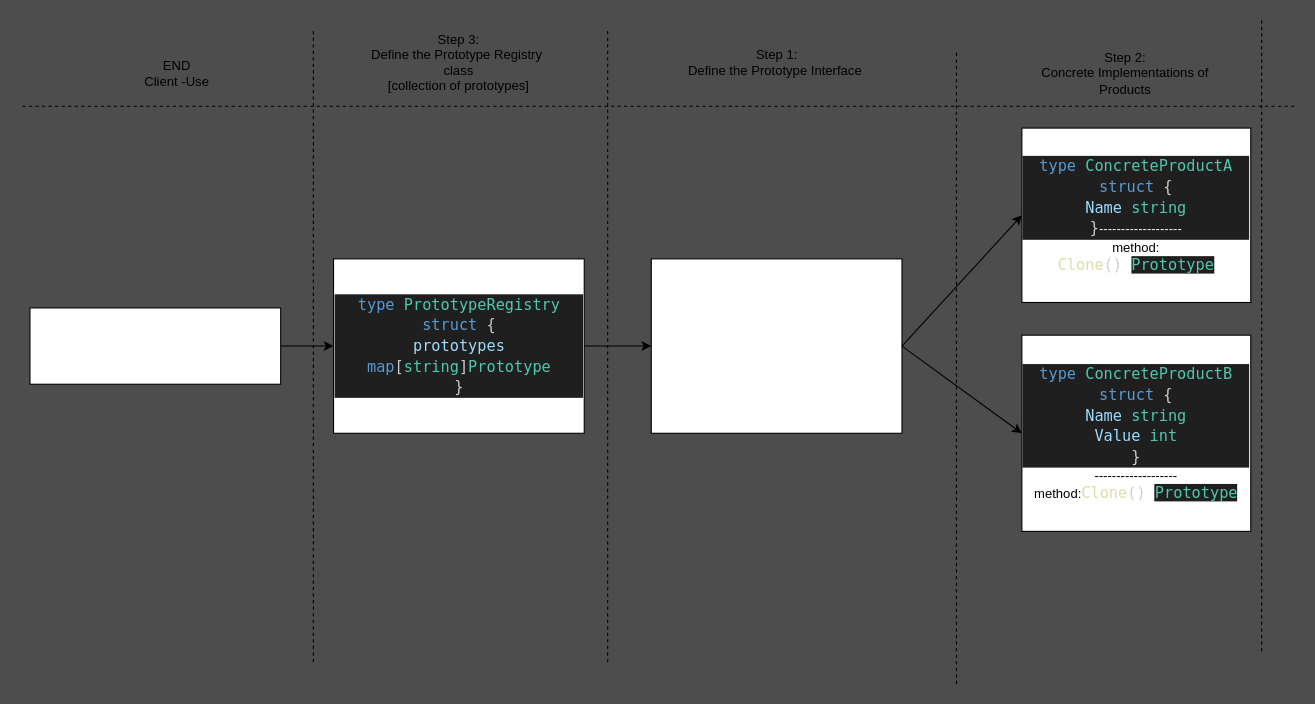
This 1315x704 diagram has some shape labels left out. The box of each missing label's shape, as (x1, y1, x2, y2) in pixels:
Client: (29, 307, 281, 384)
type Prototype interface { Clone () Prototype }: (650, 258, 902, 433)
